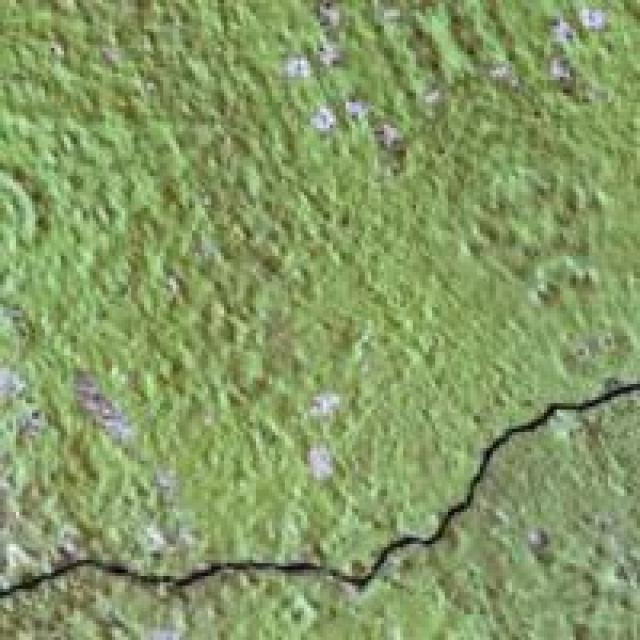crack: (0, 368, 637, 637)
